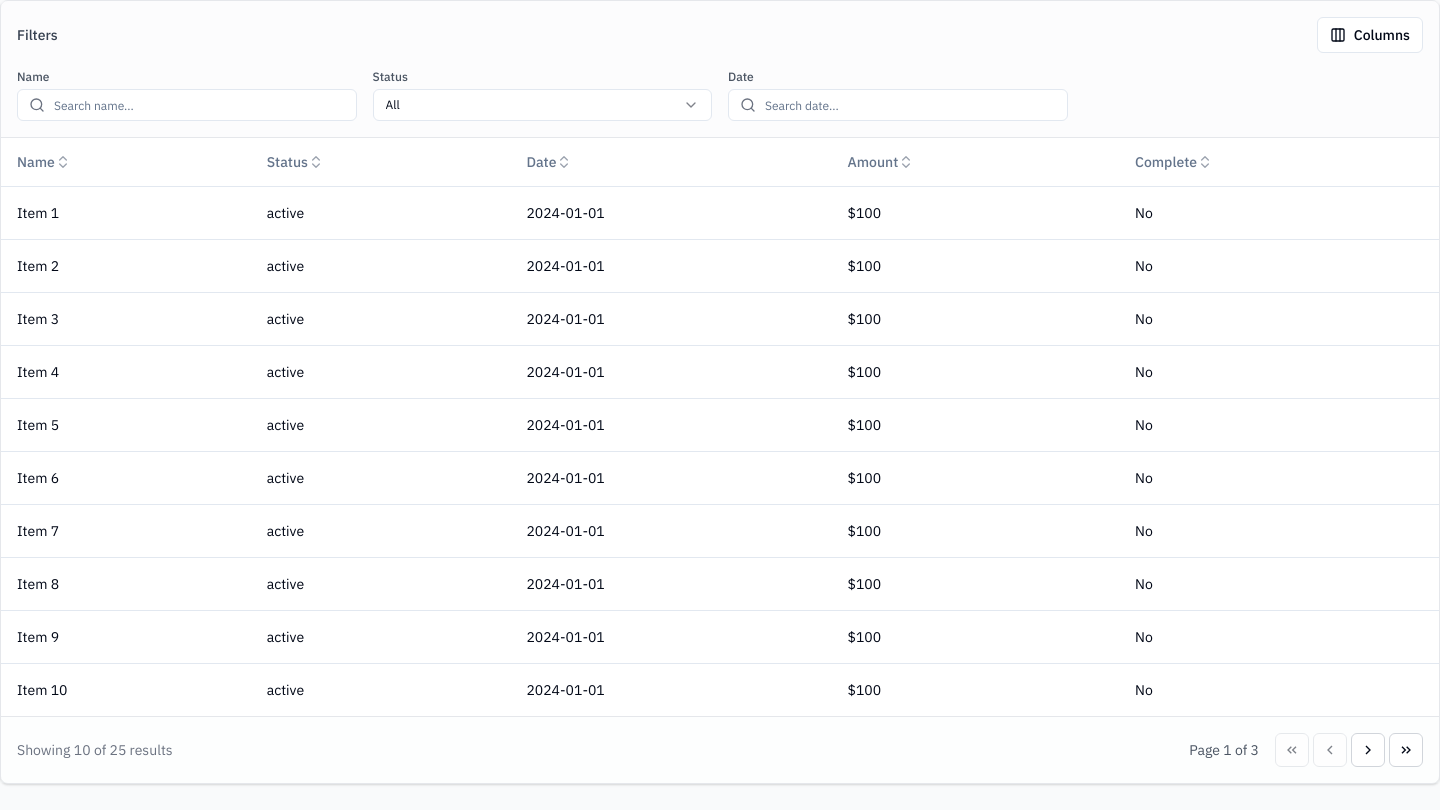
Test: DataTable › Pagination › paginates data correctly
Expected: the text "Item 1" is shown, [1,186,251,239]
Expected: the text "Item 10" is shown, [1,663,251,716]
Click next page
Click the button named "next": (1368, 750) [1351,732,1385,766]
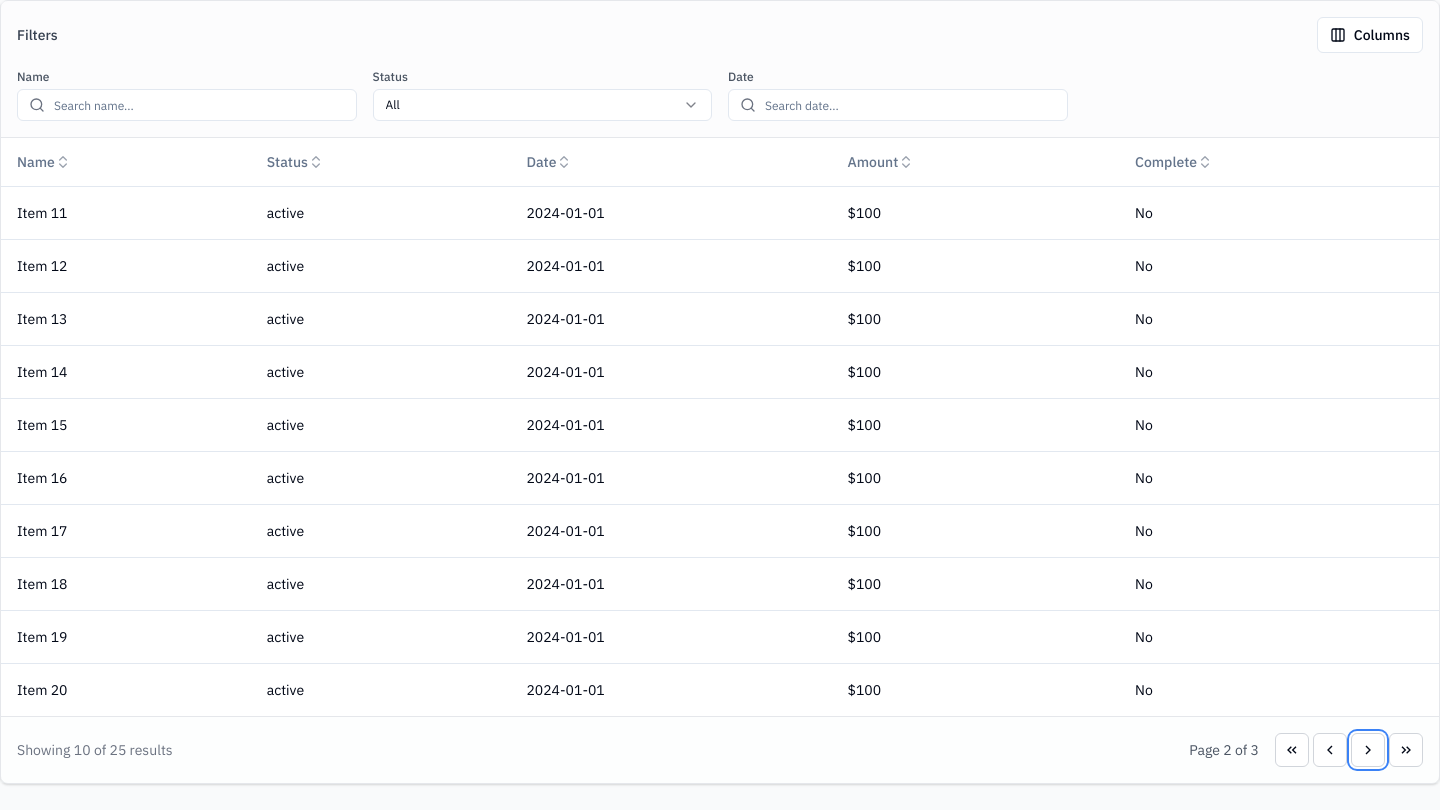
Result: the text "Item 11" is shown at [1,186,251,239]
Result: the text "Item 20" is shown at [1,663,251,716]
Click last page
Click the button named "last": (1406, 750) [1389,732,1423,766]
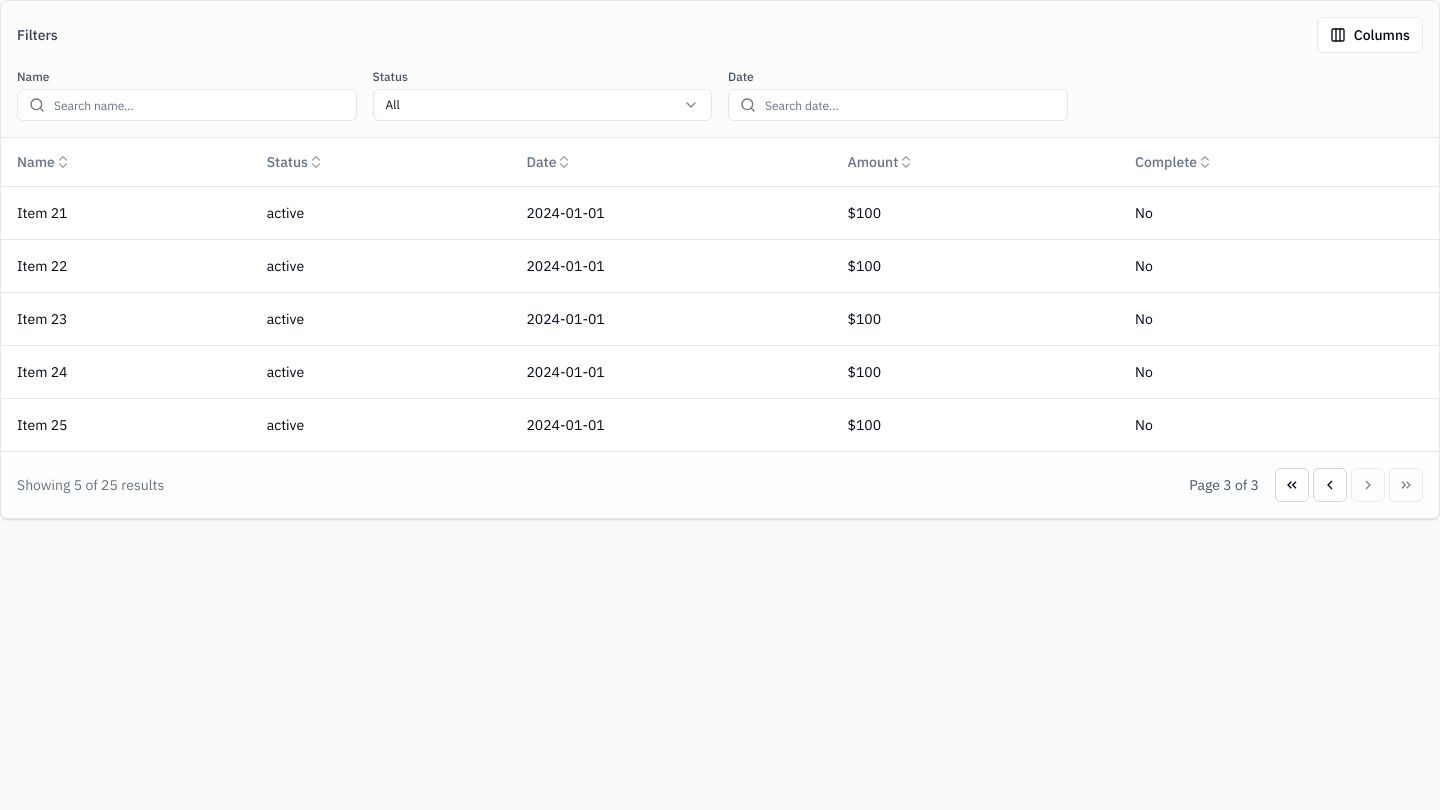
Result: the text "Item 21" is shown at [1,186,251,239]
Result: the text "Item 25" is shown at [1,398,251,450]
